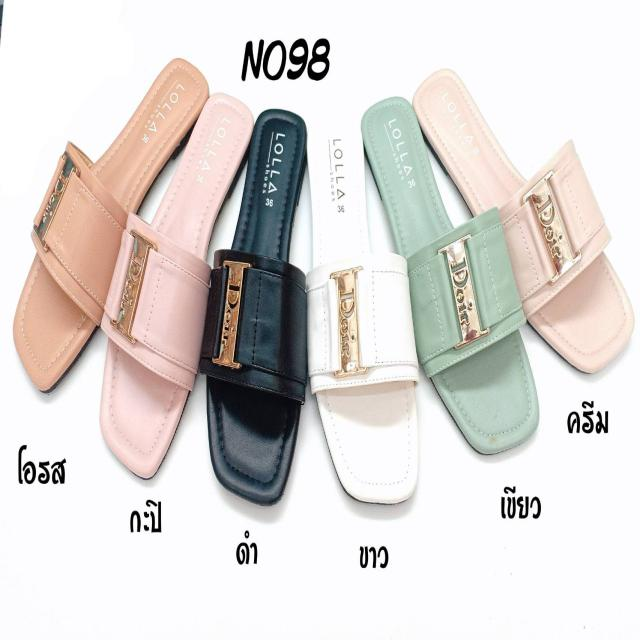black: (208, 102, 307, 501)
cream: (412, 66, 632, 376)
green: (364, 100, 533, 450)
kapi: (98, 90, 249, 474)
orot: (15, 58, 207, 391)
white: (307, 112, 420, 494)
